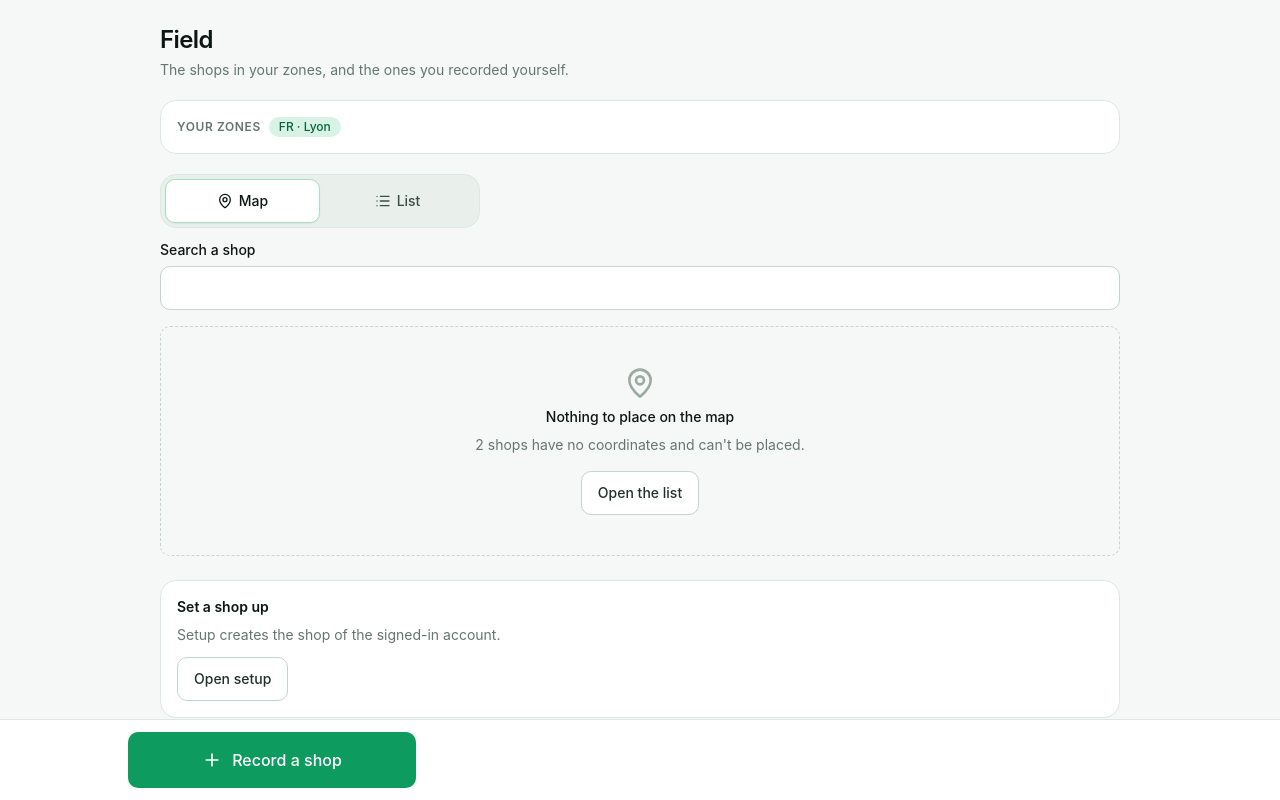
Scenario: PlatformFieldPage — /platform/field › ne prétend pas que la zone est vide quand la carte ne peut rien placer
Expected: the text "Nothing to place on the map" is shown, [546,407,734,427]
Expected: the text "2 shops have no coordinates and can't be placed." is shown, [475,435,805,455]
Click the button with test id "field-unplaced-to-list": click(640, 493) [581,471,699,515]
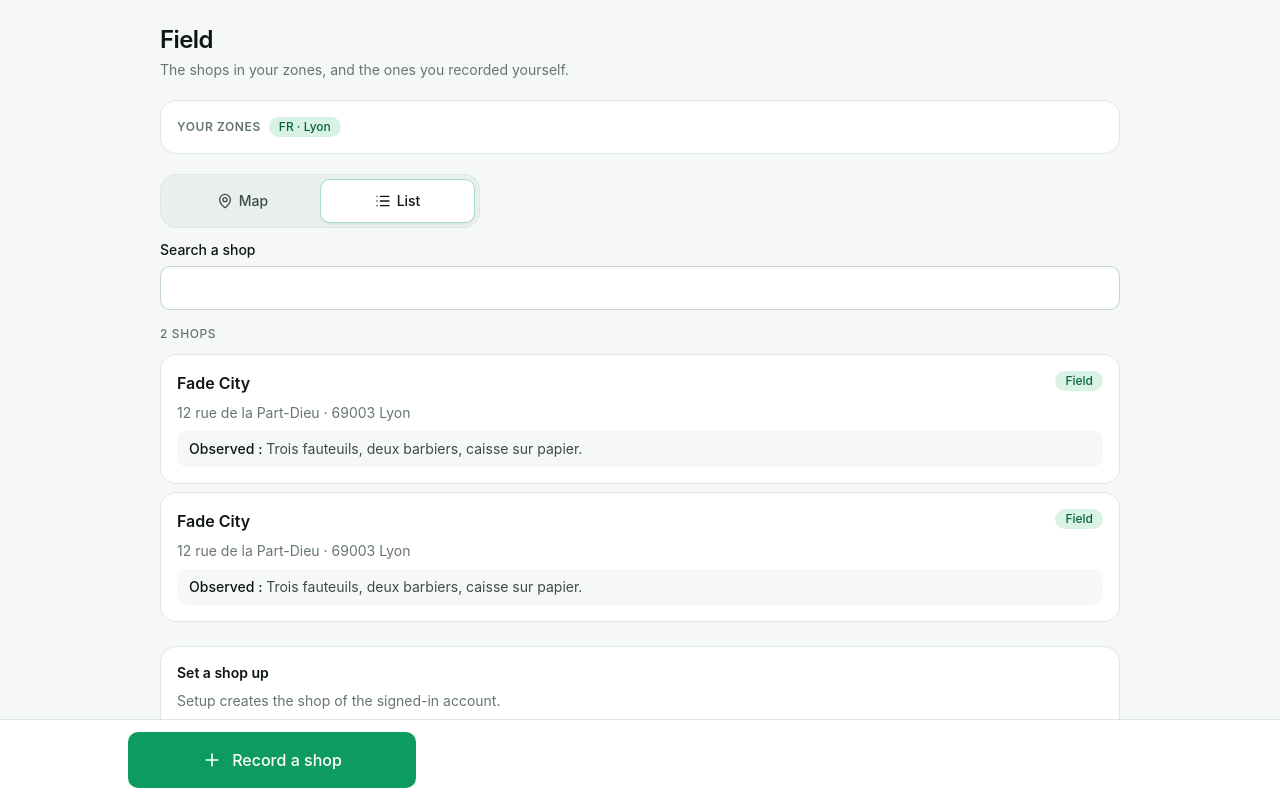
Expected: the element with test id "field-prospect-p-1" is shown, [160,354,1120,484]
Expected: the element with test id "field-prospect-p-2" is shown, [160,492,1120,622]
